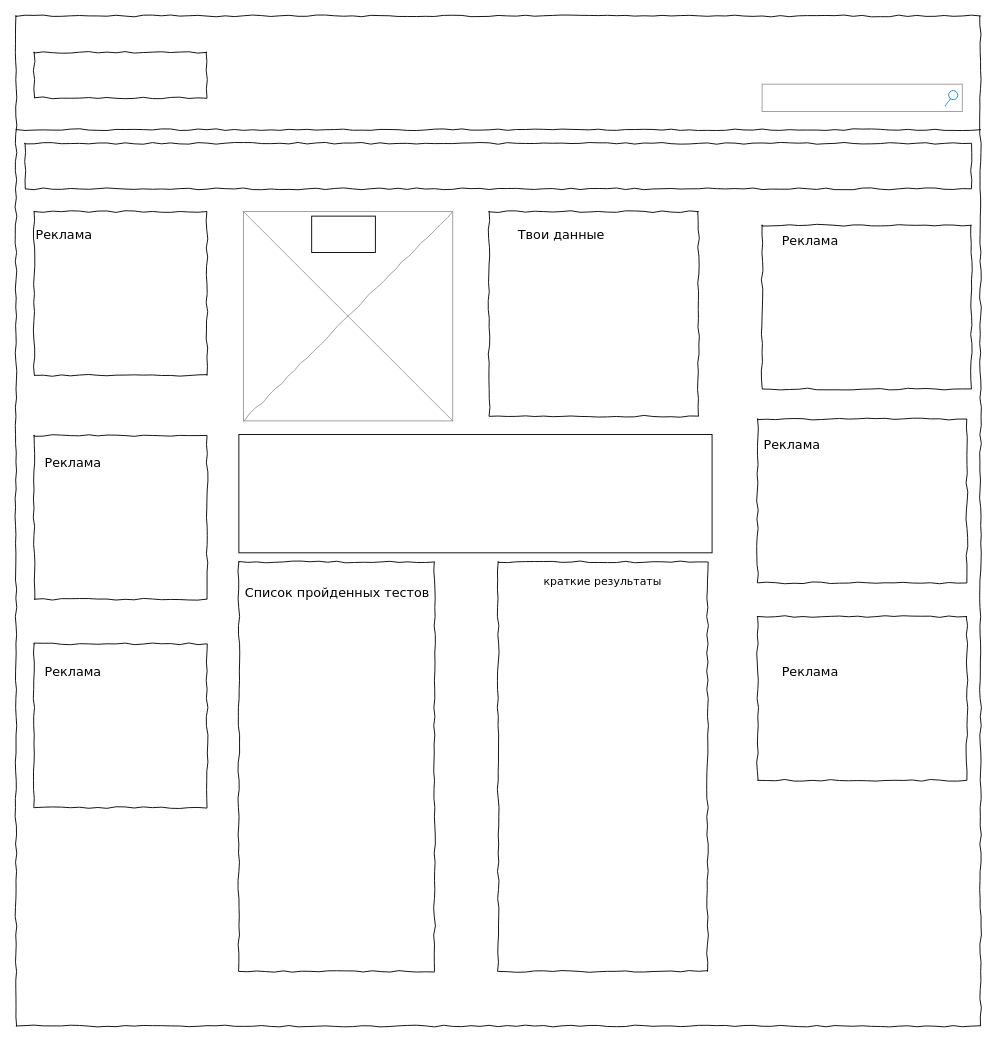
The diagram is 996 pixels wide and 1042 high, and some of its shapes have lost their labels. The shapes that lost their labels are listed below. From the top down, each one's centre as x and y in pixels, then its label:
(120,74): LOGO
(861,97): Search
(497,165): Твой профиль
(343,234): Твоя фотка
(475,493): Статистика твоих тестов
